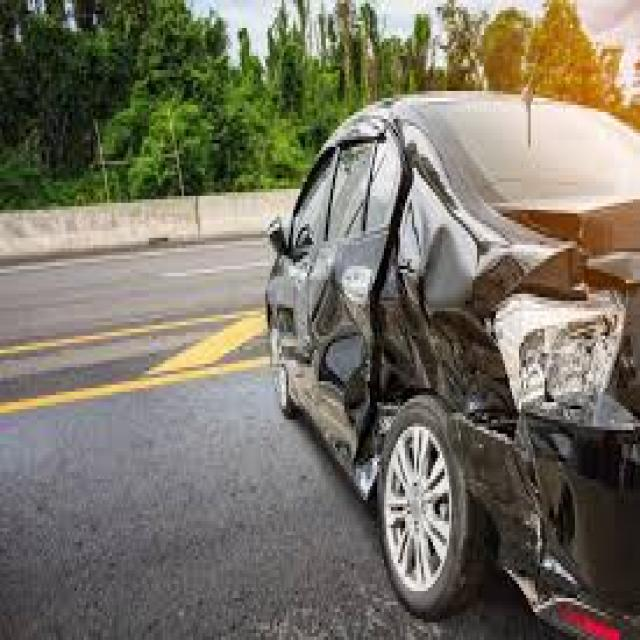moderate: (266, 92, 638, 628)
